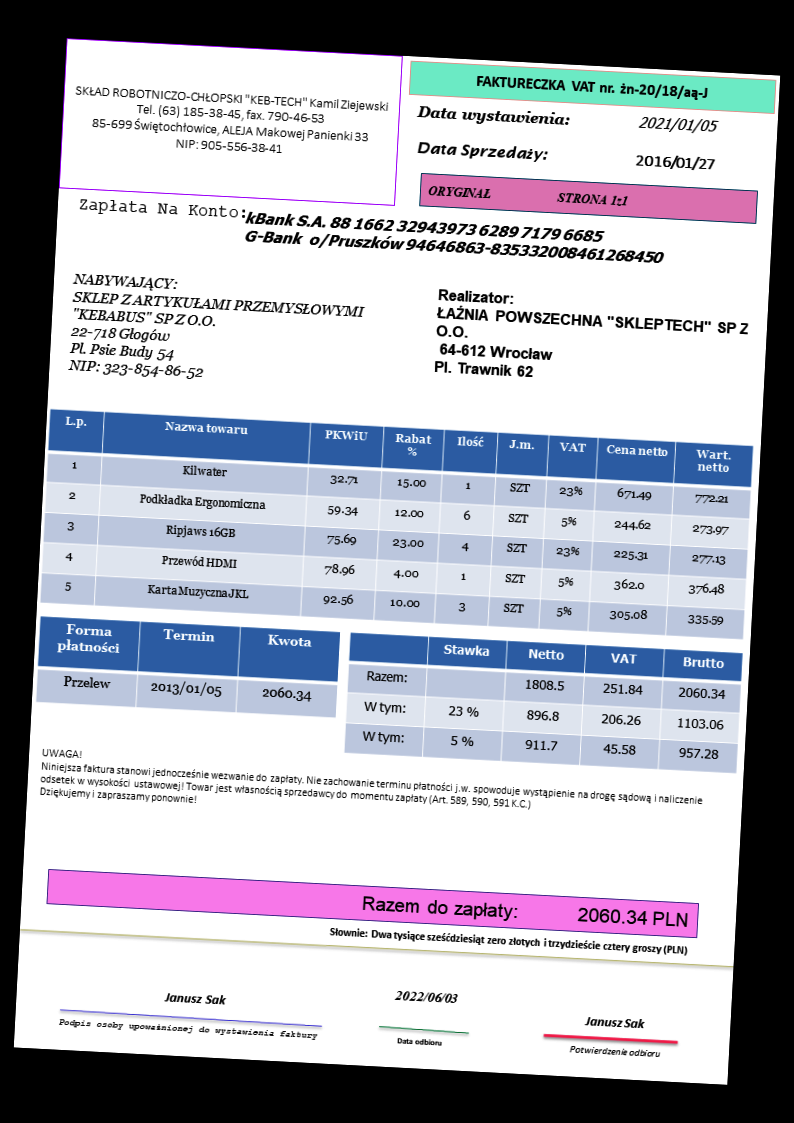Table: (38, 406, 755, 642), (343, 631, 746, 776), (35, 613, 340, 718)
TextBox: (38, 745, 706, 833), (66, 269, 369, 393), (430, 287, 755, 396), (70, 80, 393, 167), (243, 211, 668, 267), (327, 924, 692, 959), (360, 893, 690, 931), (472, 69, 711, 103), (54, 1017, 319, 1043), (426, 182, 632, 211), (414, 101, 570, 134), (76, 196, 248, 222), (413, 138, 550, 166), (637, 112, 720, 138), (633, 150, 717, 173), (567, 1044, 663, 1060), (160, 988, 228, 1010), (392, 988, 461, 1006), (582, 1014, 647, 1031), (393, 1035, 446, 1049)
